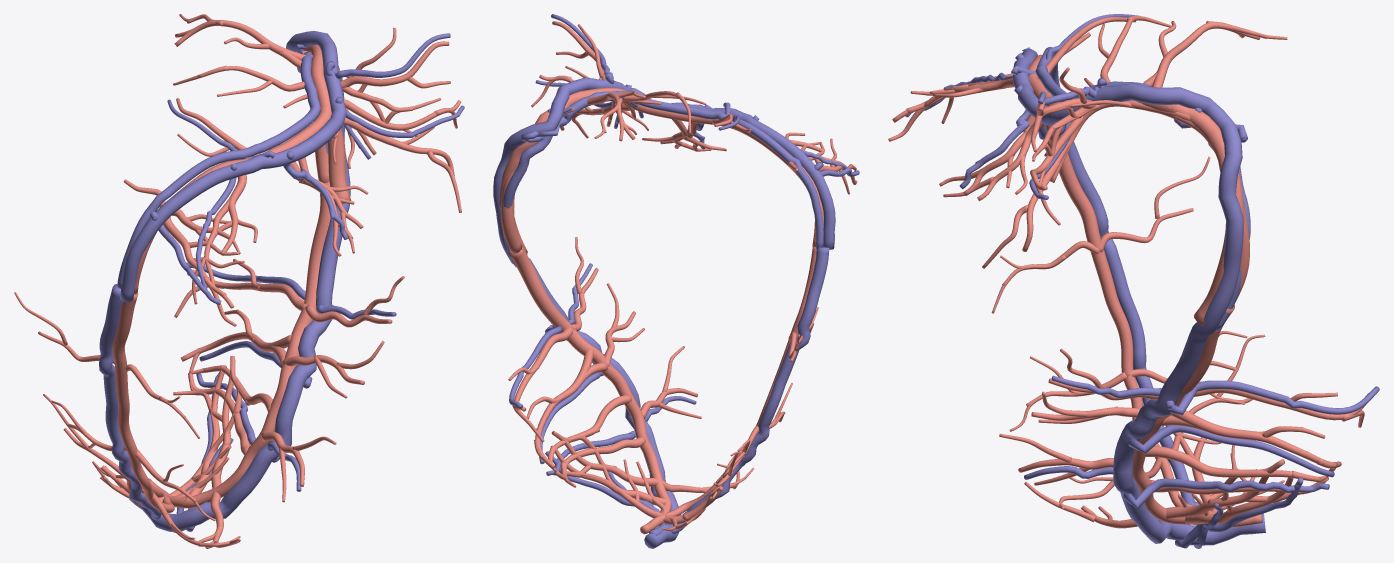
The model's file is vessels_48.glb.
3 views of the same model, side by side, from view 1: azimuth 30°, elevation 25°; view 2: azimuth 150°, elevation 25°; view 3: azimuth 270°, elevation 25° (orthographic). The views are drawn at different scales.
Visible parts, largest first — view 1: Renderer Node; view 2: Renderer Node; view 3: Renderer Node.
Part boxes in pixels (x1=…): Renderer Node: x1=14, y1=14, x2=464, y2=548; Renderer Node: x1=493, y1=14, x2=859, y2=548; Renderer Node: x1=888, y1=14, x2=1379, y2=548.
Size of the model in its own units: 94.8 by 122 by 95.36.
